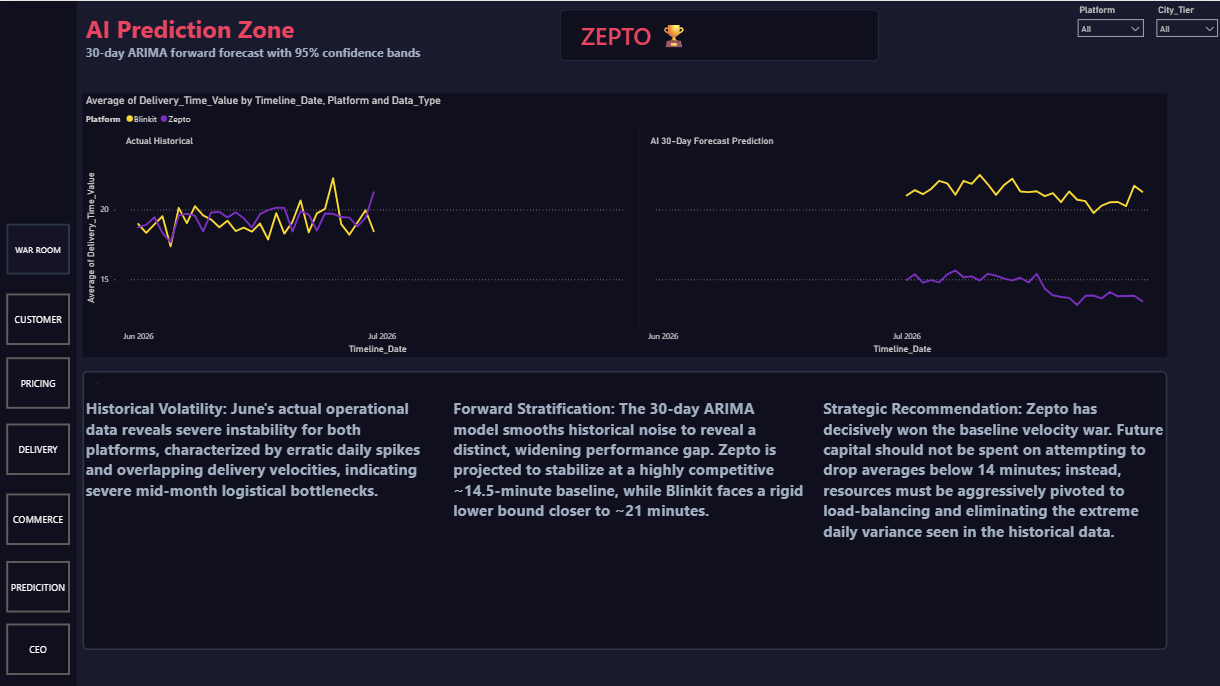

What the dashboard file says about the page in this screenshot:
{"tool":"powerbi","page":{"name":"06 AI Prediction Zone","canvas":[1920,1080],"ordinal":5},"visuals":[{"type":"shape","box":[0,0,120,1080],"z":0},{"type":"slicer","fields":{"Values":["3_delivery_ops_cleaned.City_Tier"]},"box":[1803.3,0,116.7,66.7],"z":1000},{"type":"slicer","fields":{"Values":["3_delivery_ops_cleaned.Platform"]},"box":[1680,0,123.3,66.7],"z":2000},{"type":"textbox","box":[129.4,13.7,1000,103.9],"z":3000},{"type":"cardVisual","fields":{"Data":["phase5_ai_forecast.Predicted_Leader"]},"box":[878.4,13.7,500,80.4],"z":4000},{"type":"textbox","box":[129.4,580.4,1702,437.3],"z":5000},{"type":"actionButton","box":[9.6,459.6,100,80.8],"z":6000},{"type":"actionButton","box":[9.6,559.6,100,80.8],"z":7000},{"type":"actionButton","box":[9.6,663.5,100,80.8],"z":8000},{"type":"actionButton","box":[9.6,773.1,100,80.8],"z":9000},{"type":"actionButton","box":[9.6,878.8,100,80.8],"z":10000},{"type":"actionButton","box":[9.6,976.9,100,80.8],"z":11000},{"type":"actionButton","box":[9.8,349,100,80.4],"z":12000},{"type":"textbox","box":[129.4,617.6,558.8,360.8],"z":13000},{"type":"textbox","box":[705.9,617.6,560.8,358.8],"z":14000},{"type":"textbox","box":[1286.3,617.6,545.1,360.8],"z":15000},{"type":"lineChart","fields":{"Category":["phase5_ai_forecast.Timeline_Date"],"Y":["Avg(phase5_ai_forecast.Delivery_Time_Value)"],"Rows":["phase5_ai_forecast.Data_Type"],"Series":["phase5_ai_forecast.Platform"]},"box":[129.4,145.1,1702,413.7],"z":16000}]}

Visuals, with their boxes on the page's 1920x1080 design canvas (x1, y1, x2, y2). These are canvas units, not pixel positions in the 1220x686 screenshot, which may show the page scaled, cropped or inside an application window:
shape: {"x1": 0, "y1": 0, "x2": 120, "y2": 1080}
slicer - 3_delivery_ops_cleaned.City_Tier: {"x1": 1803, "y1": 0, "x2": 1920, "y2": 67}
slicer - 3_delivery_ops_cleaned.Platform: {"x1": 1680, "y1": 0, "x2": 1803, "y2": 67}
textbox: {"x1": 129, "y1": 14, "x2": 1129, "y2": 118}
cardVisual - phase5_ai_forecast.Predicted_Leader: {"x1": 878, "y1": 14, "x2": 1378, "y2": 94}
textbox: {"x1": 129, "y1": 580, "x2": 1831, "y2": 1018}
actionButton: {"x1": 10, "y1": 460, "x2": 110, "y2": 540}
actionButton: {"x1": 10, "y1": 560, "x2": 110, "y2": 640}
actionButton: {"x1": 10, "y1": 664, "x2": 110, "y2": 744}
actionButton: {"x1": 10, "y1": 773, "x2": 110, "y2": 854}
actionButton: {"x1": 10, "y1": 879, "x2": 110, "y2": 960}
actionButton: {"x1": 10, "y1": 977, "x2": 110, "y2": 1058}
actionButton: {"x1": 10, "y1": 349, "x2": 110, "y2": 429}
textbox: {"x1": 129, "y1": 618, "x2": 688, "y2": 978}
textbox: {"x1": 706, "y1": 618, "x2": 1267, "y2": 976}
textbox: {"x1": 1286, "y1": 618, "x2": 1831, "y2": 978}
lineChart - phase5_ai_forecast.Timeline_Date x Avg(phase5_ai_forecast.Delivery_Time_Value): {"x1": 129, "y1": 145, "x2": 1831, "y2": 559}
